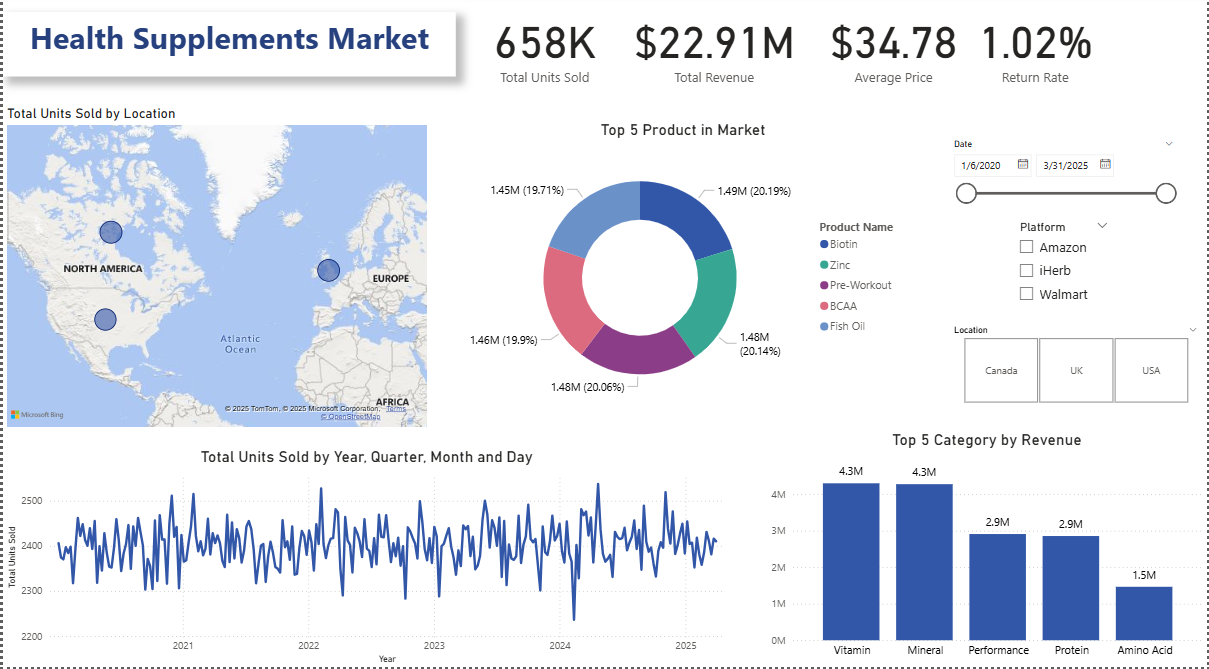

The dashboard page shown, as its layout file describes it:
{"tool":"powerbi","page":{"name":"Page 1","canvas":[1480,820],"ordinal":0},"visuals":[{"type":"card","fields":{"Values":["Health_Supplement_Sales.Total Units Sold"]},"box":[579.1,0,173.3,110.6],"z":0},{"type":"card","fields":{"Values":["Health_Supplement_Sales.Total Revenue"]},"box":[752.4,0,243.4,110.6],"z":1000},{"type":"card","fields":{"Values":["Health_Supplement_Sales.Average Price"]},"box":[995.8,0,197.3,110.6],"z":2000},{"type":"lineChart","fields":{"Category":["Health_Supplement_Sales.Date.Variation.Date Hierarchy.Year","Health_Supplement_Sales.Date.Variation.Date Hierarchy.Quarter","Health_Supplement_Sales.Date.Variation.Date Hierarchy.Month","Health_Supplement_Sales.Date.Variation.Date Hierarchy.Day"],"Y":["Health_Supplement_Sales.Total Units Sold"]},"box":[0,549.5,894.4,271.1],"z":3000},{"type":"clusteredColumnChart","title":"Top 5 Category by Revenue","fields":{"Y":["Health_Supplement_Sales.Total Revenue"],"Category":["Health_Supplement_Sales.Category"]},"box":[938.7,529.3,542.2,289.5],"z":4000},{"type":"donutChart","title":"Top 5 Product in Market","fields":{"Category":["Health_Supplement_Sales.Product Name"],"Y":["Health_Supplement_Sales.Total Revenue"]},"box":[556.9,147.5,558.8,363.3],"z":5000},{"type":"slicer","fields":{"Values":["Health_Supplement_Sales.Date"]},"box":[1156.3,166,295.1,97.7],"z":6000},{"type":"slicer","fields":{"Values":["Health_Supplement_Sales.Platform"]},"box":[1237.4,265.6,132.8,129.1],"z":7000},{"type":"slicer","fields":{"Values":["Health_Supplement_Sales.Location"]},"box":[1156.3,394.6,324.6,107],"z":8000},{"type":"card","fields":{"Values":["Health_Supplement_Sales.Return Rate"]},"box":[1193.1,0,151.2,110.6],"z":9000},{"type":"map","fields":{"Category":["Health_Supplement_Sales.Location"],"Size":["Health_Supplement_Sales.Total Units Sold"]},"box":[0,129.1,525.6,400.2],"z":10000},{"type":"textbox","box":[0,14.8,556.9,79.3],"z":10002}]}

Visuals, with their boxes in screenshot pixels (x1, y1, x2, y2), scaled from the page's 1480x820 canvas onto the 1209x669 screenshot:
card - Health_Supplement_Sales.Total Units Sold: <box>473,0,615,90</box>
card - Health_Supplement_Sales.Total Revenue: <box>615,0,813,90</box>
card - Health_Supplement_Sales.Average Price: <box>813,0,975,90</box>
lineChart - Health_Supplement_Sales.Date.Variation.Date Hierarchy.Year x Health_Supplement_Sales.Date.Variation.Date Hierarchy.Quarter: <box>0,448,731,668</box>
"Top 5 Category by Revenue" clusteredColumnChart: <box>767,432,1208,668</box>
"Top 5 Product in Market" donutChart: <box>455,120,911,417</box>
slicer - Health_Supplement_Sales.Date: <box>945,135,1186,215</box>
slicer - Health_Supplement_Sales.Platform: <box>1011,217,1119,322</box>
slicer - Health_Supplement_Sales.Location: <box>945,322,1208,409</box>
card - Health_Supplement_Sales.Return Rate: <box>975,0,1098,90</box>
map - Health_Supplement_Sales.Location x Health_Supplement_Sales.Total Units Sold: <box>0,105,429,432</box>
textbox: <box>0,12,455,77</box>
